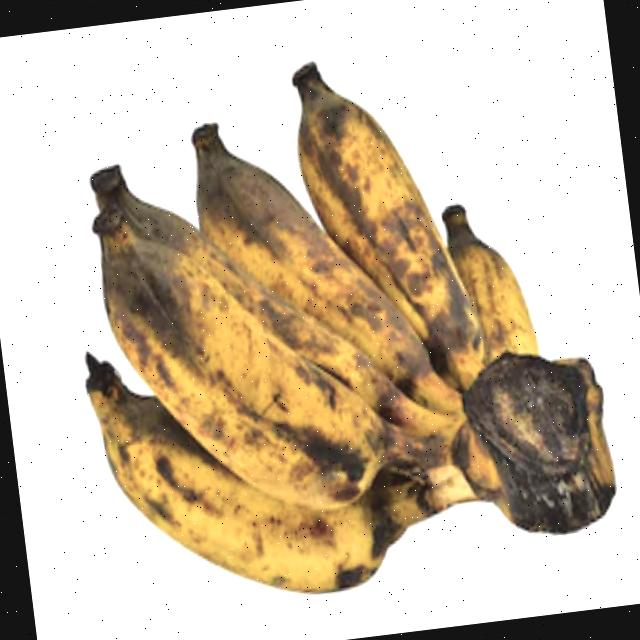rotten banana: (0, 5, 640, 620)
